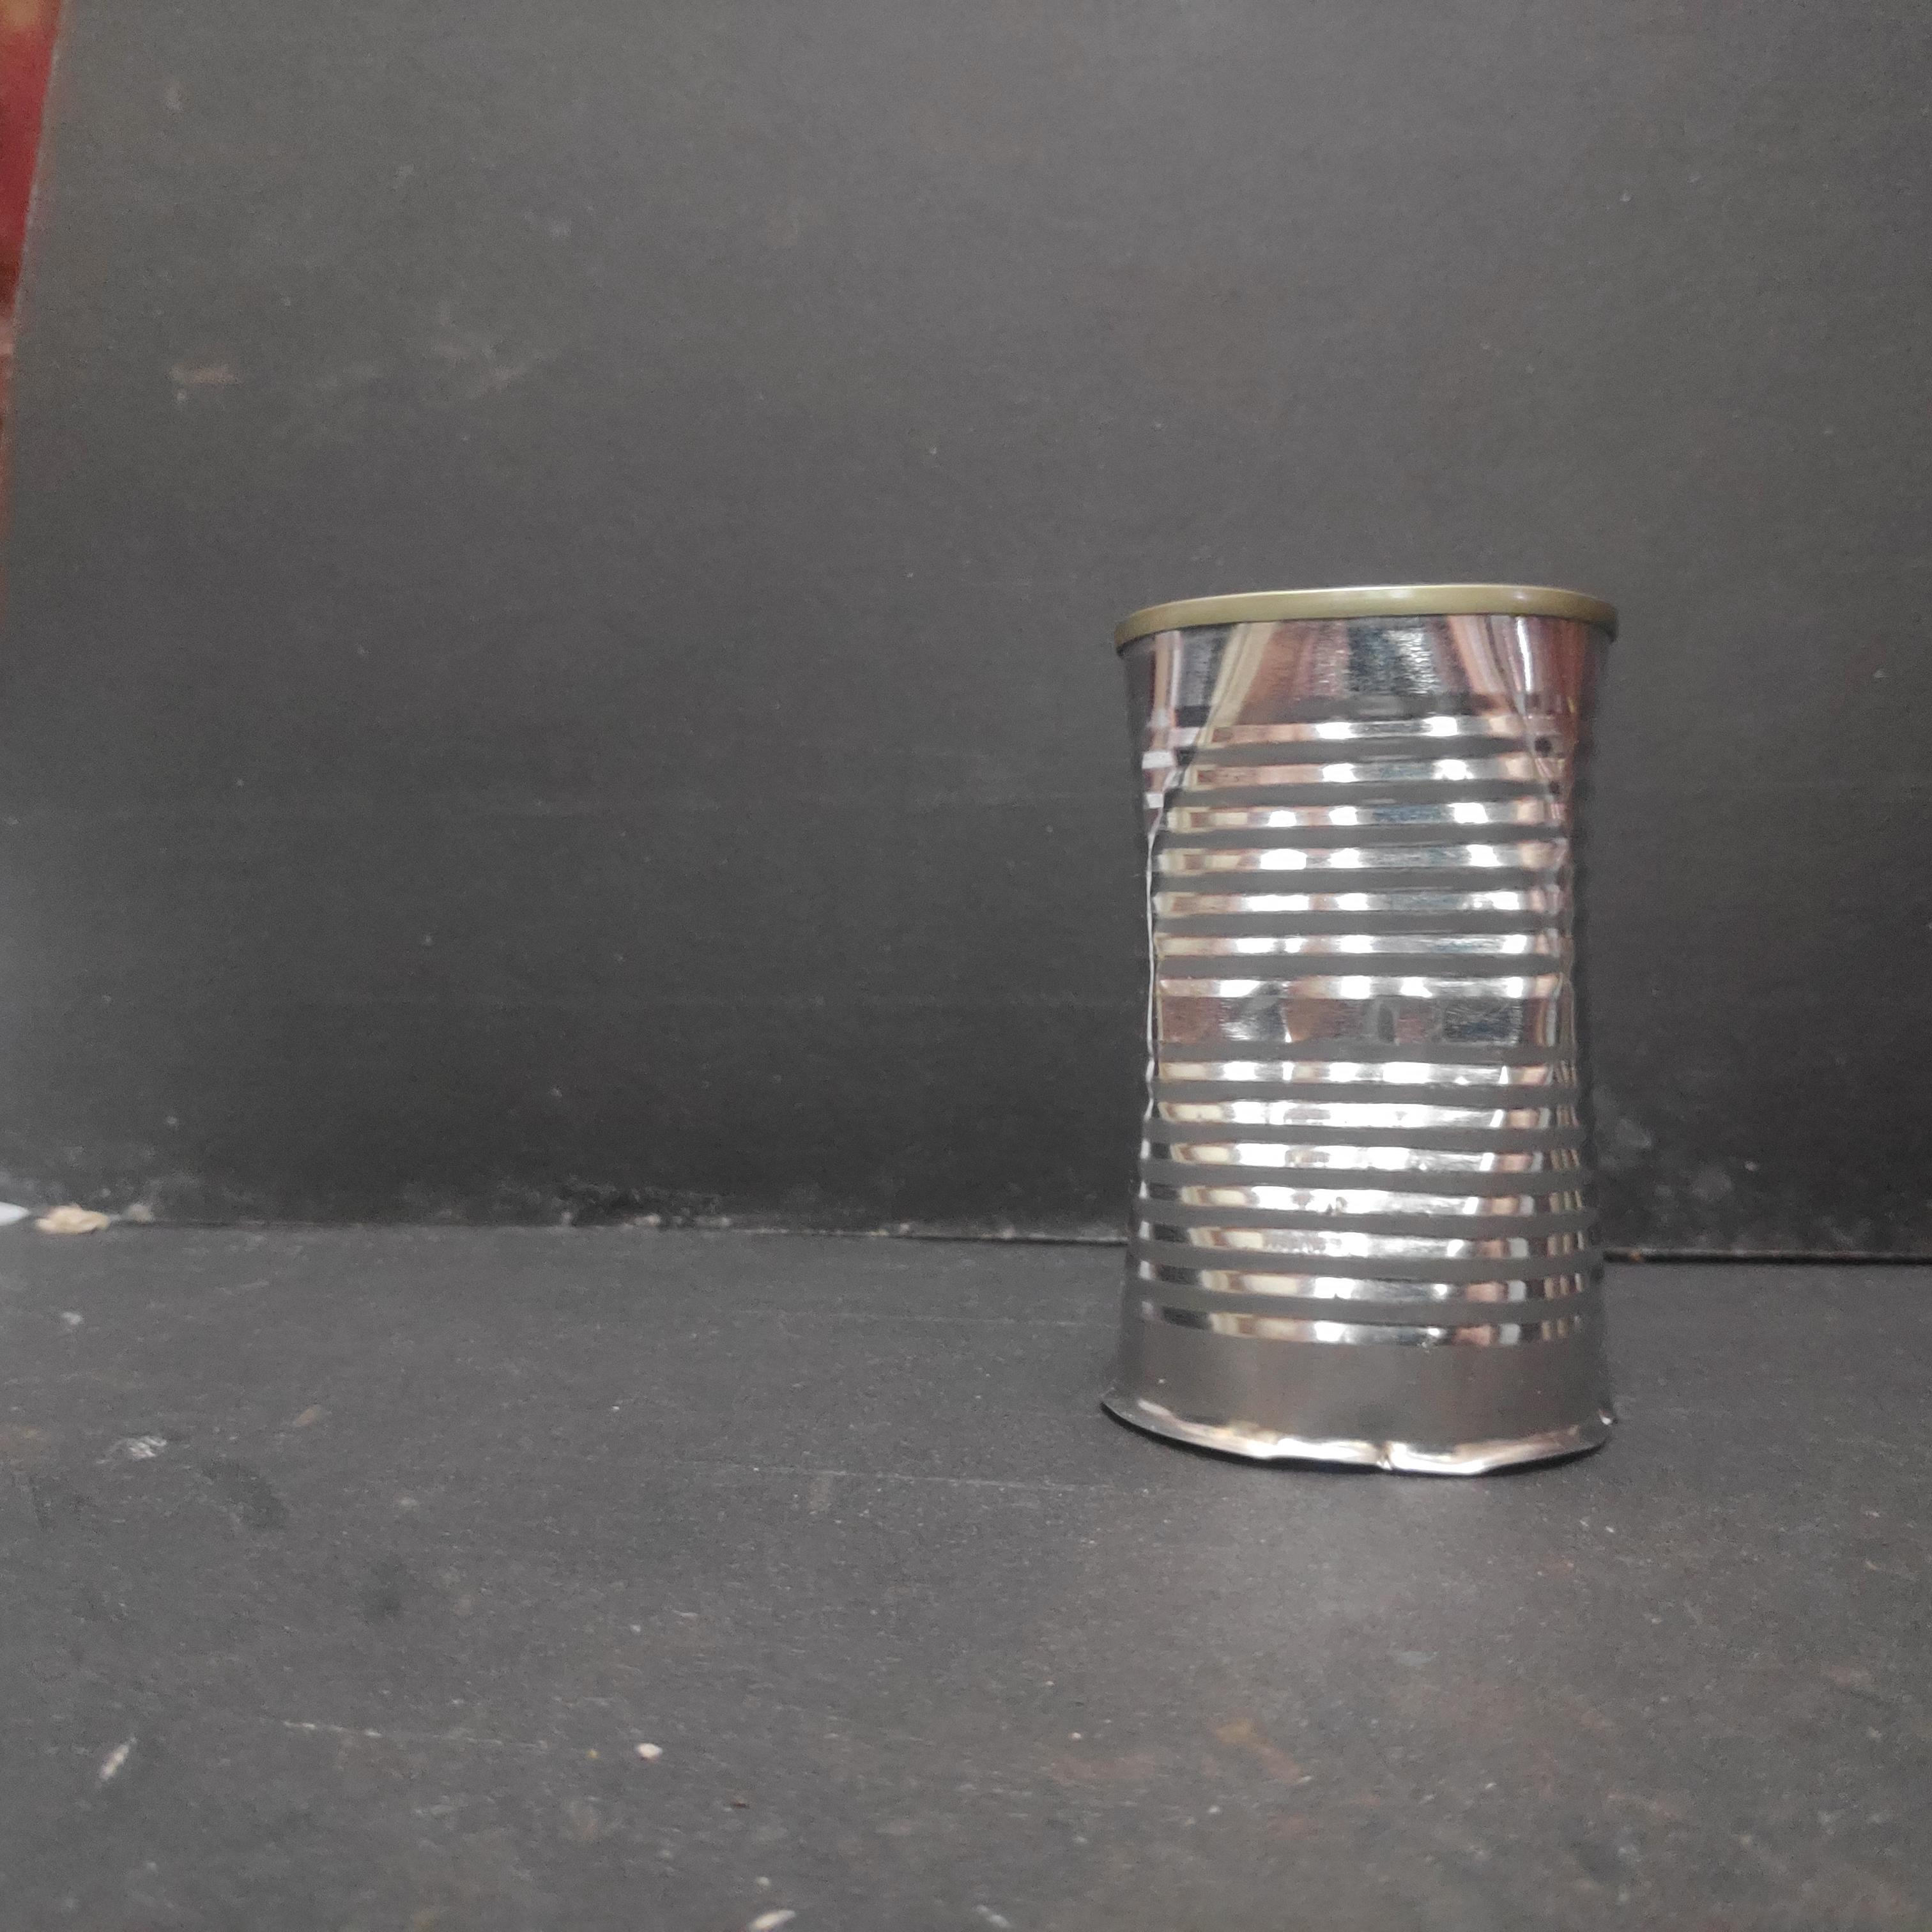Minor Defect: (1106, 579, 1629, 1490)
